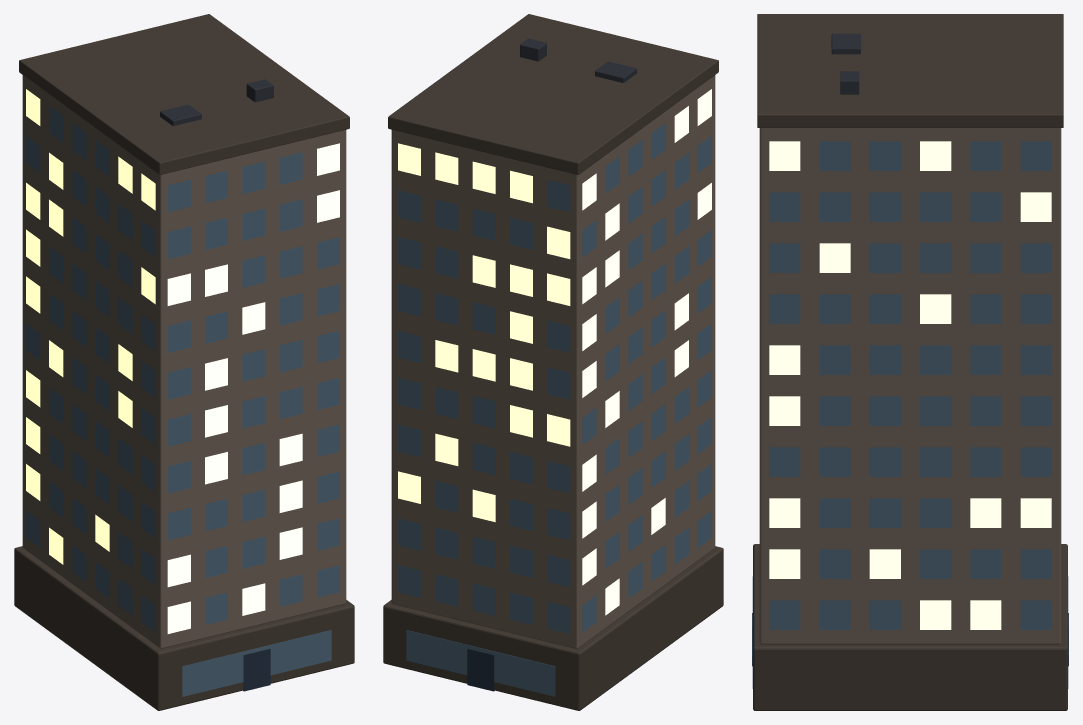
File: bld_tower_b.glb
The picture shows the model from 3 angles, left to right: view 1: azimuth 30°, elevation 25°; view 2: azimuth 150°, elevation 25°; view 3: azimuth 270°, elevation 25°; orthographic projection. The views are drawn at different scales.
Visible parts, largest first — view 1: Shaft, Windows, Parapet, Podium, WindowsLit, Storefront, Door, AC_1; view 2: Shaft, Windows, Parapet, WindowsLit, Podium, Storefront, Door, AC_1; view 3: Shaft, Windows, Parapet, Podium, WindowsLit, AC_1.
Part boxes in pixels (x1,y1,x2,y2): Shaft: (22,75,346,648); Windows: (26,106,339,632); Parapet: (19,14,349,174); Podium: (14,546,354,710); WindowsLit: (26,89,339,633); Storefront: (182,630,331,696); Door: (243,648,270,691); AC_1: (160,104,201,126); Shaft: (391,75,715,648); Windows: (398,123,711,633); Parapet: (388,14,718,174); WindowsLit: (398,89,711,615); Podium: (383,546,723,710); Storefront: (406,630,555,696); Door: (467,648,494,691); AC_1: (595,61,636,82); Shaft: (759,128,1061,644); Windows: (769,141,1051,629); Parapet: (757,14,1063,127); Podium: (753,544,1067,710); WindowsLit: (769,141,1051,629); AC_1: (831,33,860,54).
Bounding box in the file's own units: 14.8 × 40.1 × 18.92.
